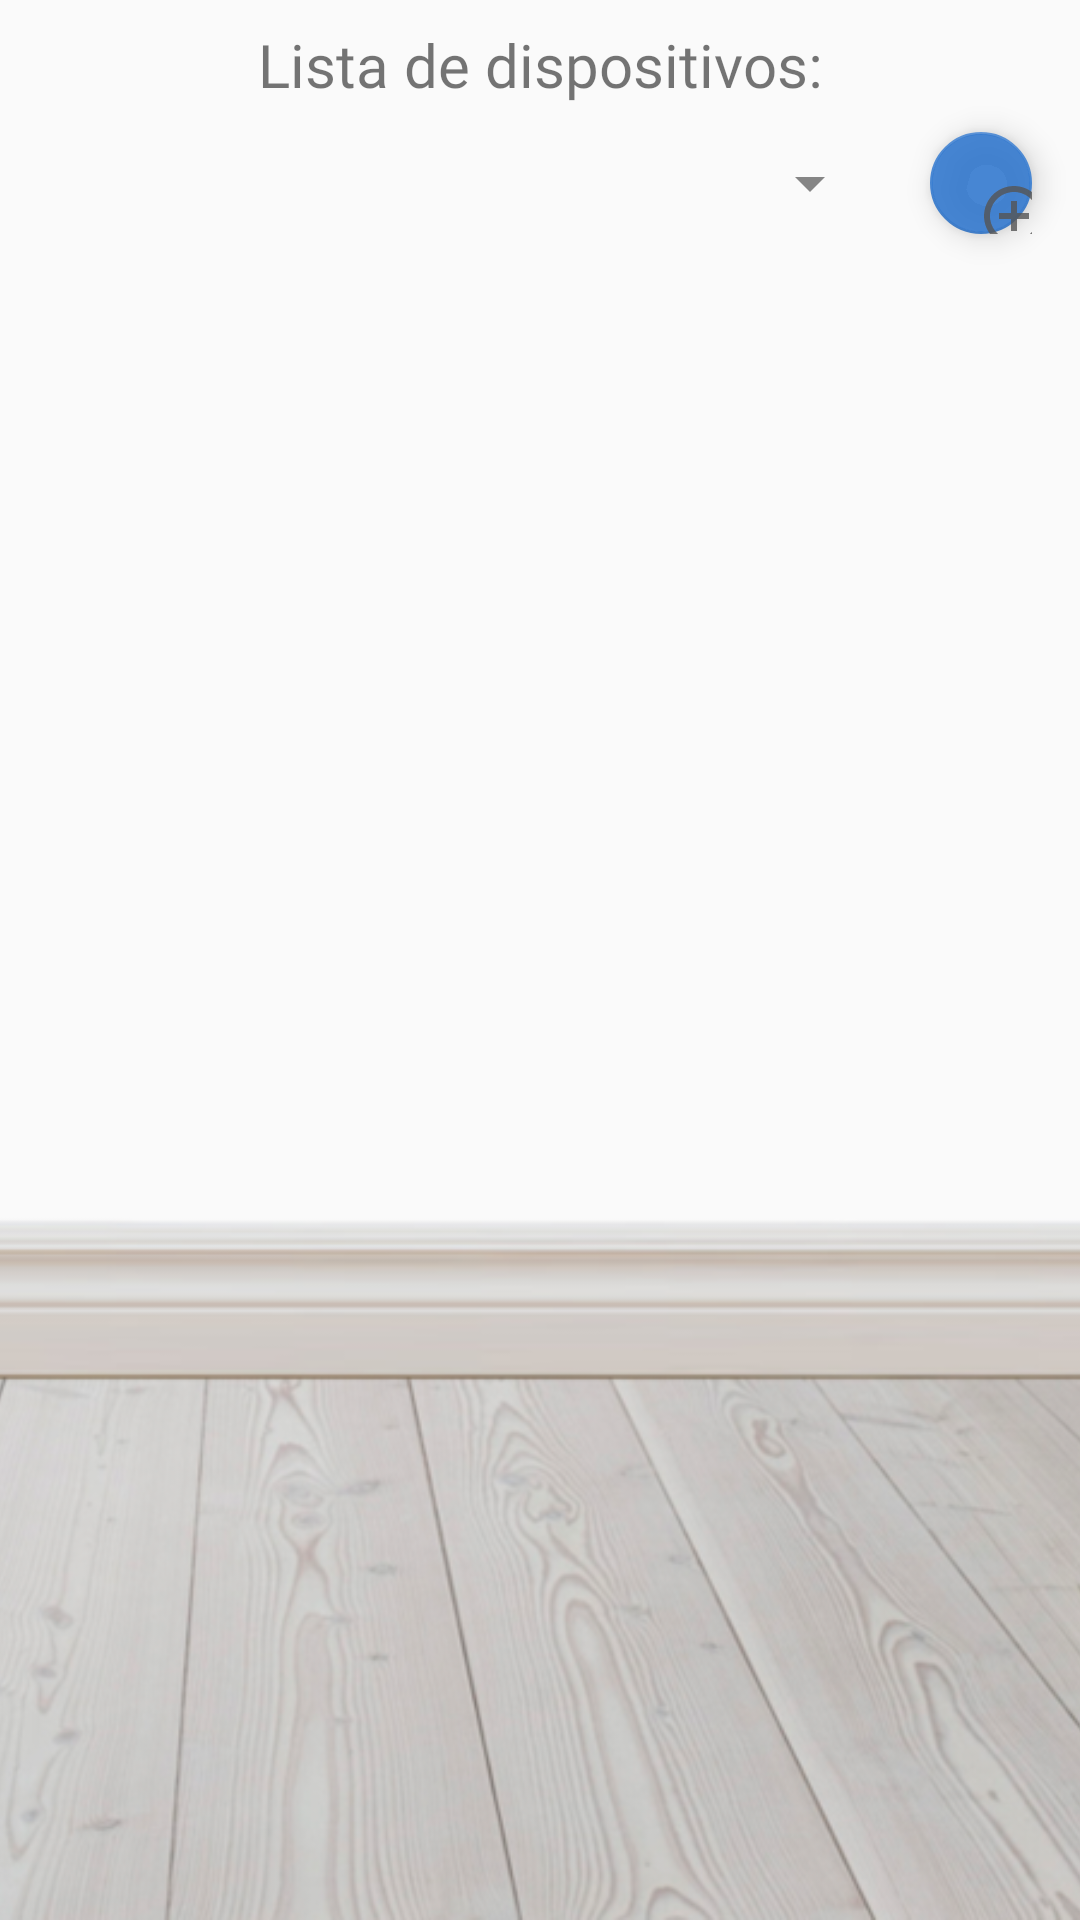

Icon bounding boxes for this 1080 x 1920 phone screenshot, format (x1, y1, x2, y2):
adddispositivo: (930, 132, 1032, 234)
